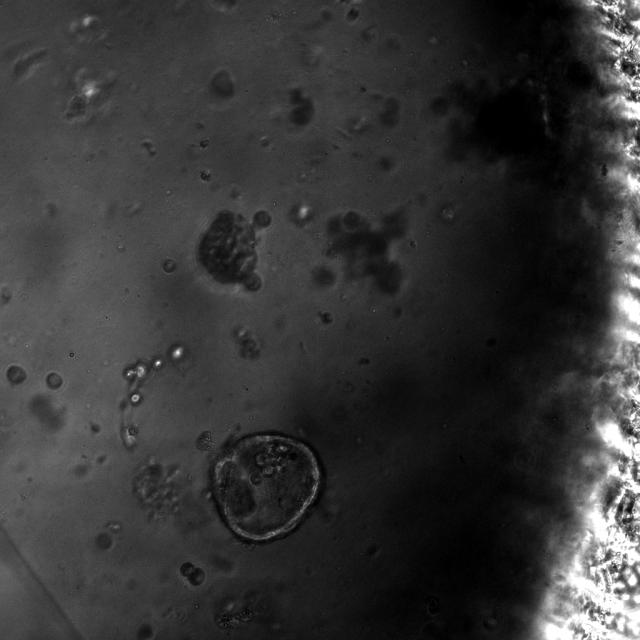organoid: (210, 432, 321, 543), (325, 209, 405, 294), (196, 210, 272, 291), (132, 457, 185, 519), (216, 607, 252, 628), (179, 561, 206, 587), (6, 365, 26, 384), (196, 431, 214, 450), (46, 371, 62, 390), (95, 532, 112, 549), (162, 259, 175, 273)
